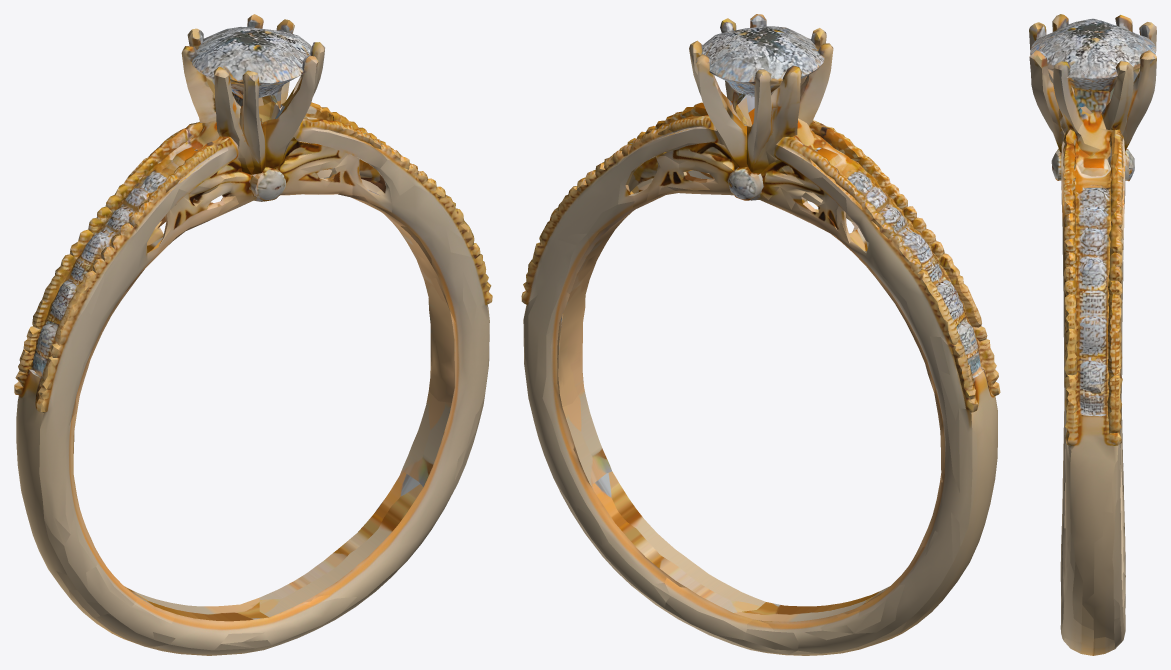
The model's file is google_images_ring_4.glb.
3 renders of one model, left to right at view 1: azimuth 30°, elevation 25°; view 2: azimuth 150°, elevation 25°; view 3: azimuth 270°, elevation 25°, orthographic.
Parts seen in each view (by area): view 1: google_images_ring_4; view 2: google_images_ring_4; view 3: google_images_ring_4.
Boxes of the visible parts, left/top/right/bottom form: google_images_ring_4: left=14, top=14, right=492, bottom=655; google_images_ring_4: left=521, top=14, right=1000, bottom=655; google_images_ring_4: left=1029, top=14, right=1156, bottom=655.
Size of the model in its own units: 0.7894 by 1 by 0.1937.
1 material, 1 textured.
